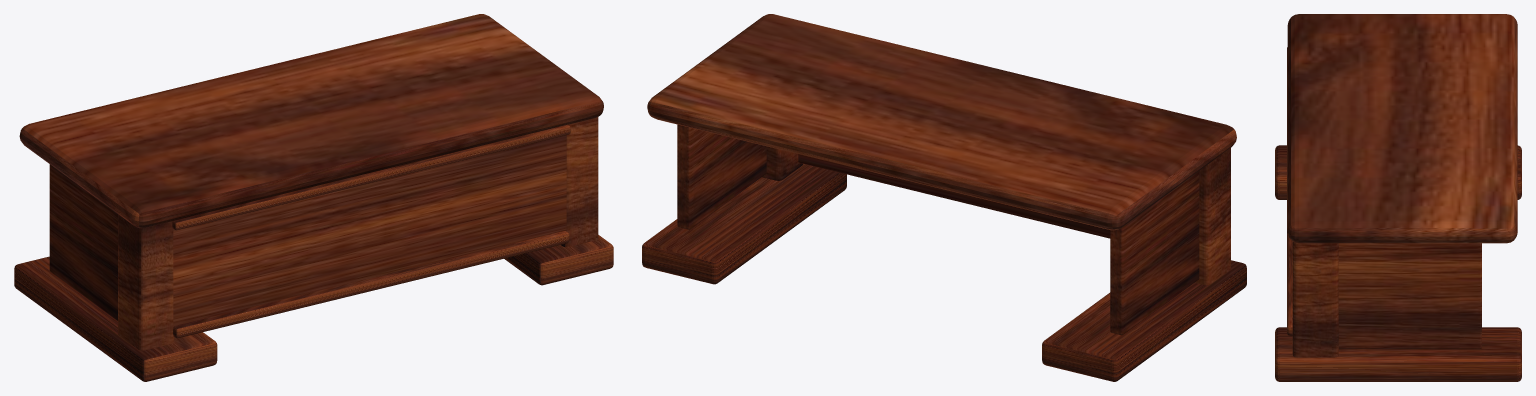
File: wooden table.fbx
3 views of the same model, side by side, from view 1: azimuth 30°, elevation 25°; view 2: azimuth 150°, elevation 25°; view 3: azimuth 270°, elevation 25° (orthographic). The views are drawn at different scales.
Parts seen in each view (by area): view 1: Table_Top, Front_Main_Panel, Right_Base_Main.001, Left_Side_Panel, Left_Front_Post, Lower_Front_Decorative_Trim, Front_Frame_Top, Right_Front_Post, Right_Base_Main; view 2: Table_Top, Right_Base_Main, Left_Side_Panel, Right_Base_Main.001, Right_Side_Panel, Left_Front_Post, Front_Main_Panel, Right_Front_Post; view 3: Table_Top, Right_Side_Panel, Right_Base_Main, Right_Front_Post, Right_Base_Main.001, Lower_Front_Decorative_Trim.
Boxes of the visible parts, x1,y1,x2,y2 form: Table_Top: (19,14,603,228); Front_Main_Panel: (173,135,566,336); Right_Base_Main.001: (14,256,217,381); Left_Side_Panel: (49,164,117,320); Left_Front_Post: (118,214,173,350); Lower_Front_Decorative_Trim: (173,231,569,338); Front_Frame_Top: (172,124,570,230); Right_Front_Post: (561,117,598,246); Right_Base_Main: (504,235,613,285); Table_Top: (647,14,1236,230); Right_Base_Main: (642,163,846,284); Left_Side_Panel: (1110,171,1199,335); Right_Base_Main.001: (1042,260,1246,381); Right_Side_Panel: (677,124,766,229); Left_Front_Post: (1194,148,1230,285); Front_Main_Panel: (798,154,1110,238); Right_Front_Post: (762,146,802,180); Table_Top: (1287,14,1517,243); Right_Side_Panel: (1338,243,1481,349); Right_Base_Main: (1275,327,1521,381); Right_Front_Post: (1292,241,1338,357); Right_Base_Main.001: (1275,145,1521,199); Lower_Front_Decorative_Trim: (1287,233,1292,335).
Size of the model in its own units: 200 by 67.74 by 96.47.
10 materials, 10 textured.
